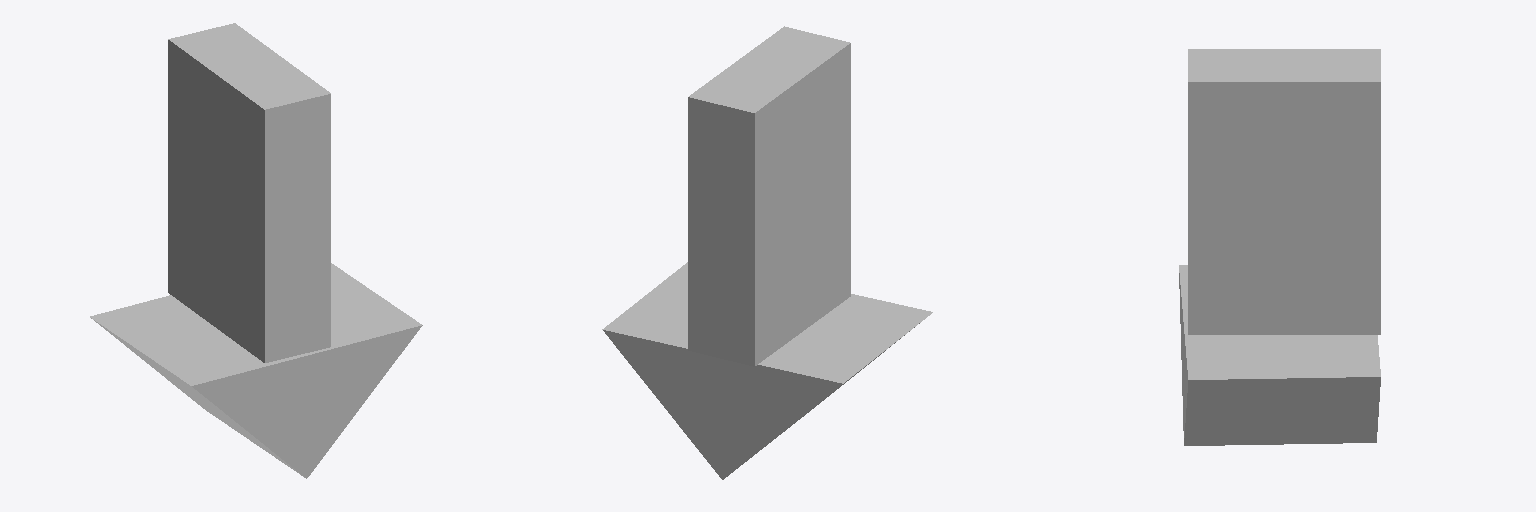
Rendered from flecha.obj.
The picture shows the model from 3 angles: view 1: azimuth 30°, elevation 25°; view 2: azimuth 150°, elevation 25°; view 3: azimuth 270°, elevation 25°; orthographic projection.
Parts seen in each view (by area): view 1: obj_0; view 2: obj_0; view 3: obj_0.
Part boxes in pixels (bbox=[...]): obj_0: bbox=[90, 23, 422, 478]; obj_0: bbox=[602, 26, 932, 479]; obj_0: bbox=[1179, 49, 1380, 445].
Size of the model in its own units: 28.96 by 43.18 by 20.97.